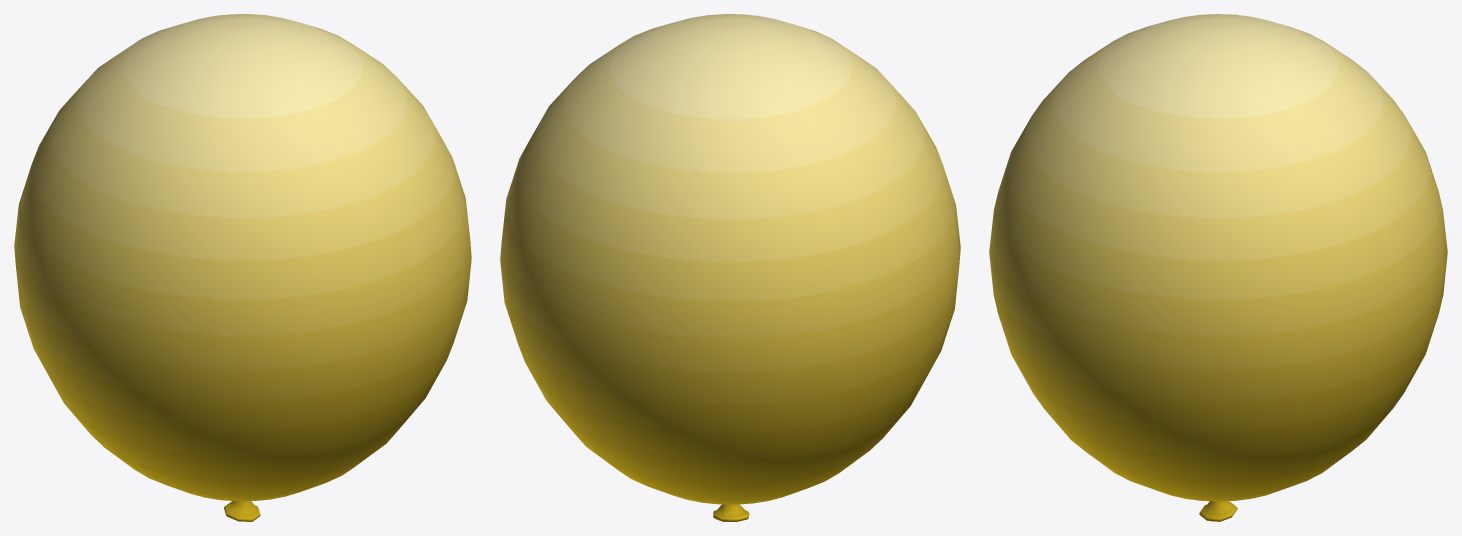
The model's file is balloon_yellow.fbx.
3 renders of one model, left to right at view 1: azimuth 30°, elevation 25°; view 2: azimuth 150°, elevation 25°; view 3: azimuth 270°, elevation 25°, orthographic.
Visible parts, largest first — view 1: balloon_yellow, balloon_yellow_t; view 2: balloon_yellow, balloon_yellow_t; view 3: balloon_yellow, balloon_yellow_t.
Part boxes in pixels (bbox=[...]): balloon_yellow: bbox=[14, 14, 471, 501]; balloon_yellow_t: bbox=[224, 501, 260, 521]; balloon_yellow: bbox=[500, 14, 960, 504]; balloon_yellow_t: bbox=[713, 504, 749, 521]; balloon_yellow: bbox=[989, 14, 1447, 501]; balloon_yellow_t: bbox=[1199, 501, 1237, 521].
Bounding box in the file's own units: 64.65 × 74.87 × 64.65.
